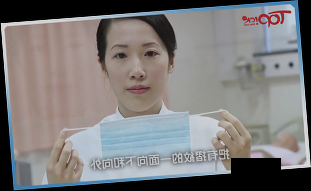without_mask: (105, 38, 171, 112)
